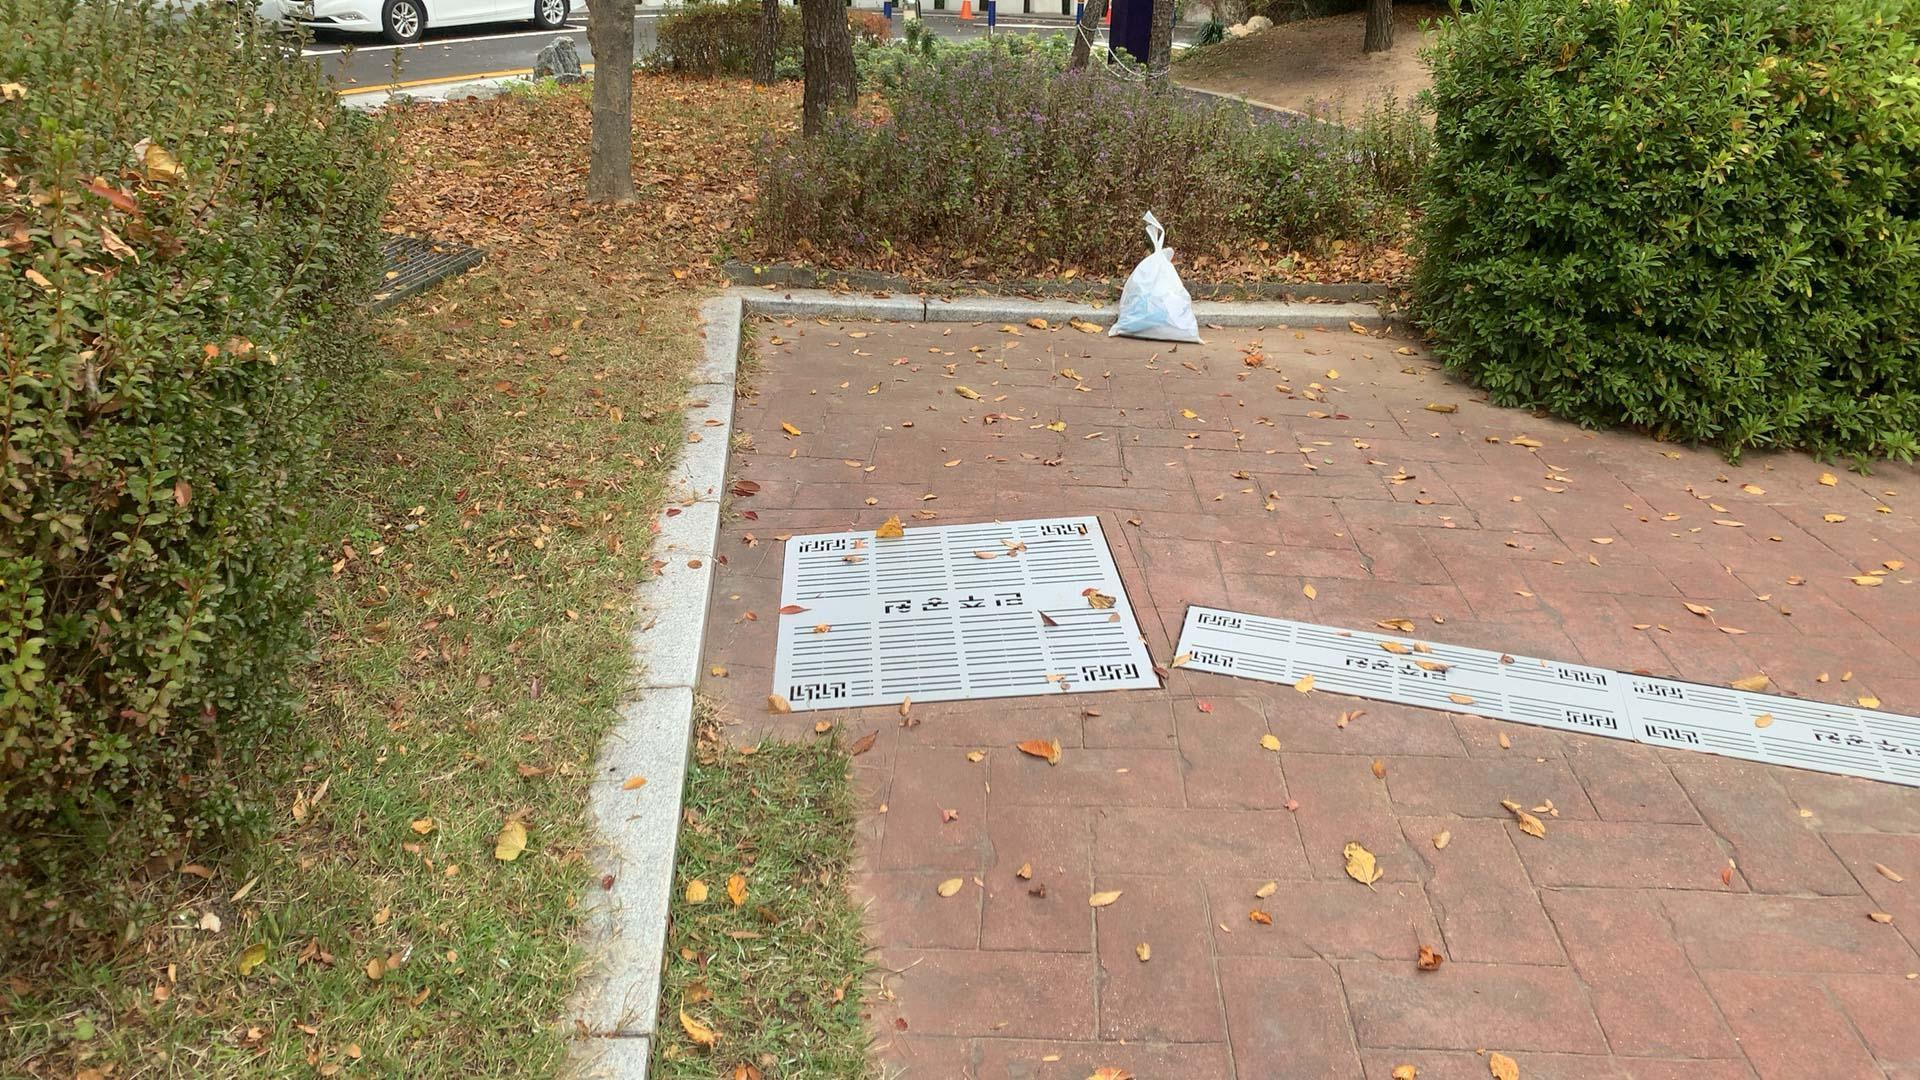white_bag: (1098, 204, 1212, 348)
